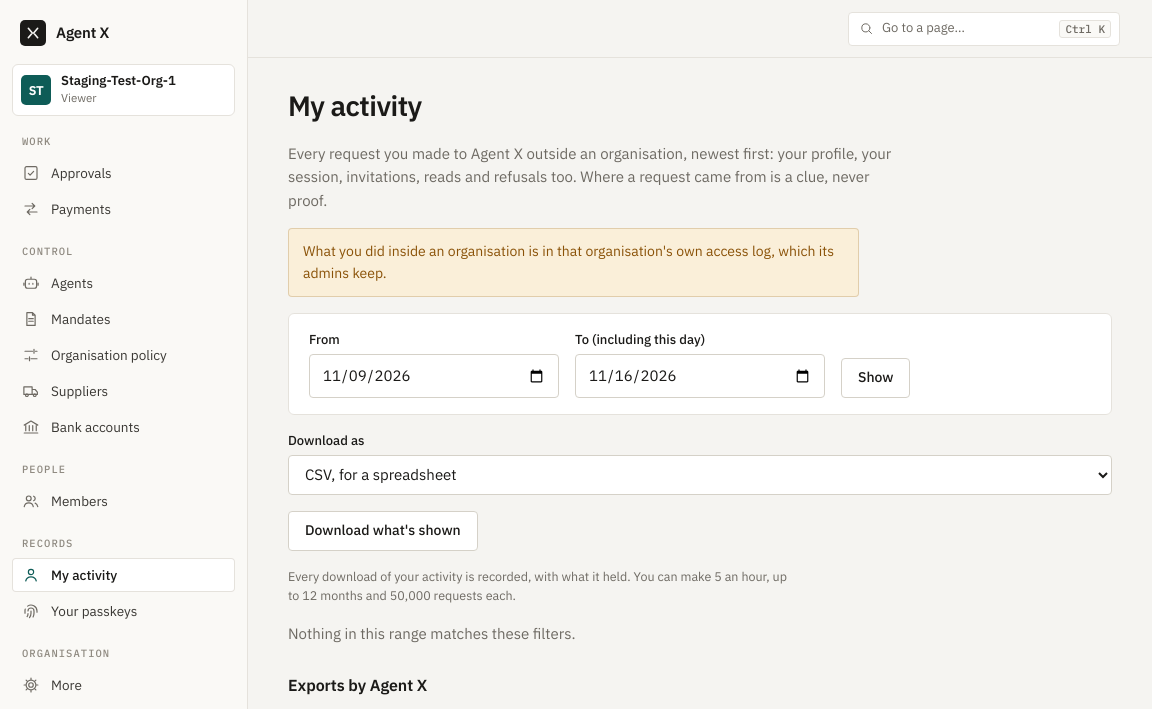
Test: My activity (6E1a) › downloads the person’s own log, naming no organisation, and says a refusal in plain words
The image size is (1152, 709).
Click the button "Download what's shown".
click(383, 531)  # box [288, 511, 478, 551]
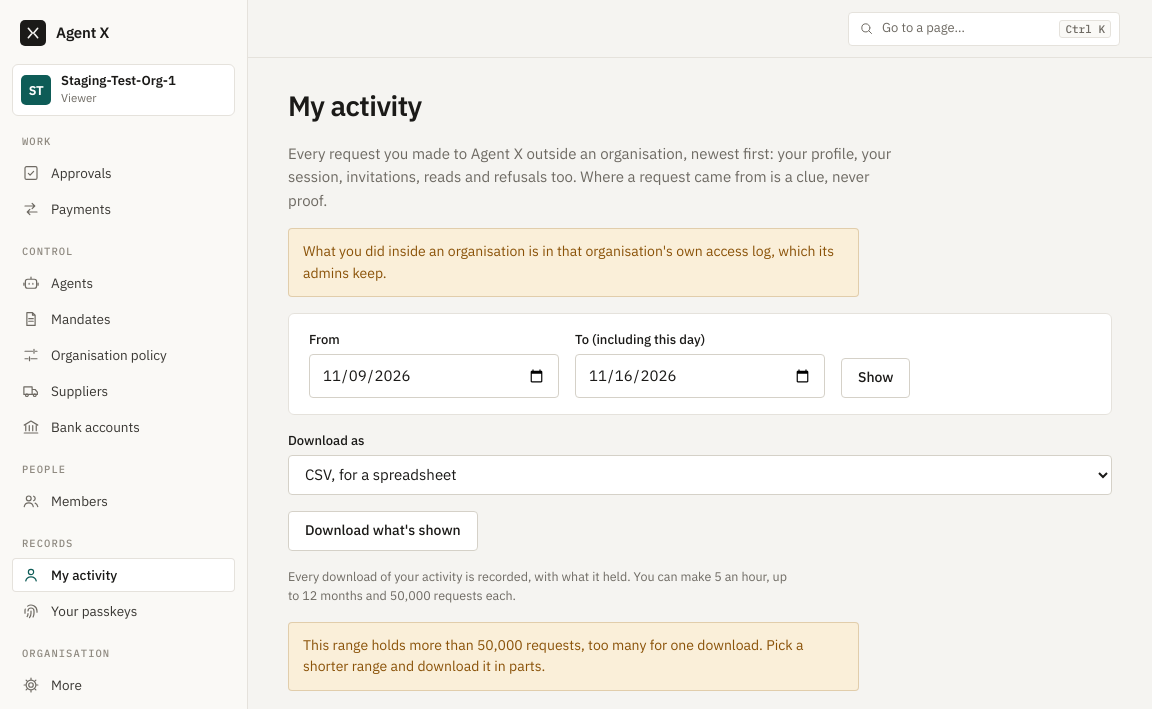
Check: the text "more than 50,000 requests" is shown, box [303, 636, 803, 675]
